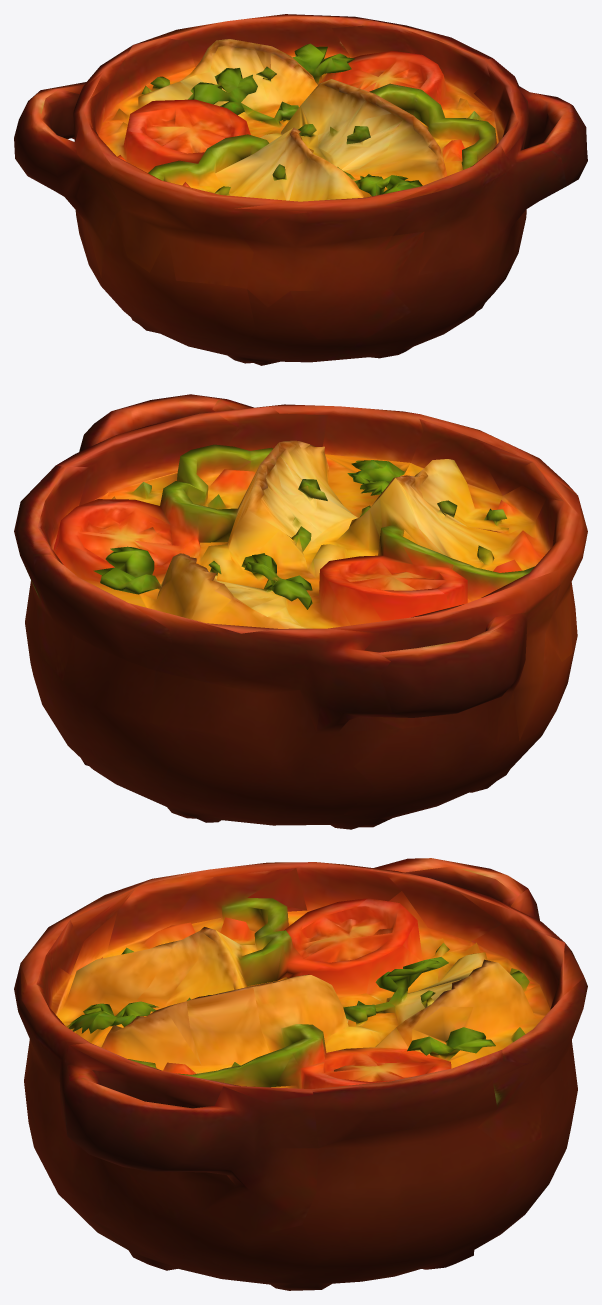
The model's file is moqueca_de_arraia.glb.
3 views of the same model, one above another, from view 1: azimuth 30°, elevation 25°; view 2: azimuth 150°, elevation 25°; view 3: azimuth 270°, elevation 25° (orthographic). The views are drawn at different scales.
Visible parts, largest first — view 1: moqueca_de_arraia; view 2: moqueca_de_arraia; view 3: moqueca_de_arraia.
Part boxes in pixels (left/top/right/bottom): moqueca_de_arraia: left=14, top=14, right=587, bottom=365; moqueca_de_arraia: left=14, top=394, right=587, bottom=829; moqueca_de_arraia: left=14, top=858, right=587, bottom=1290.
Bounding box in the file's own units: 1 × 0.4385 × 0.9133.
Materials: 1 (1 with a texture image).
